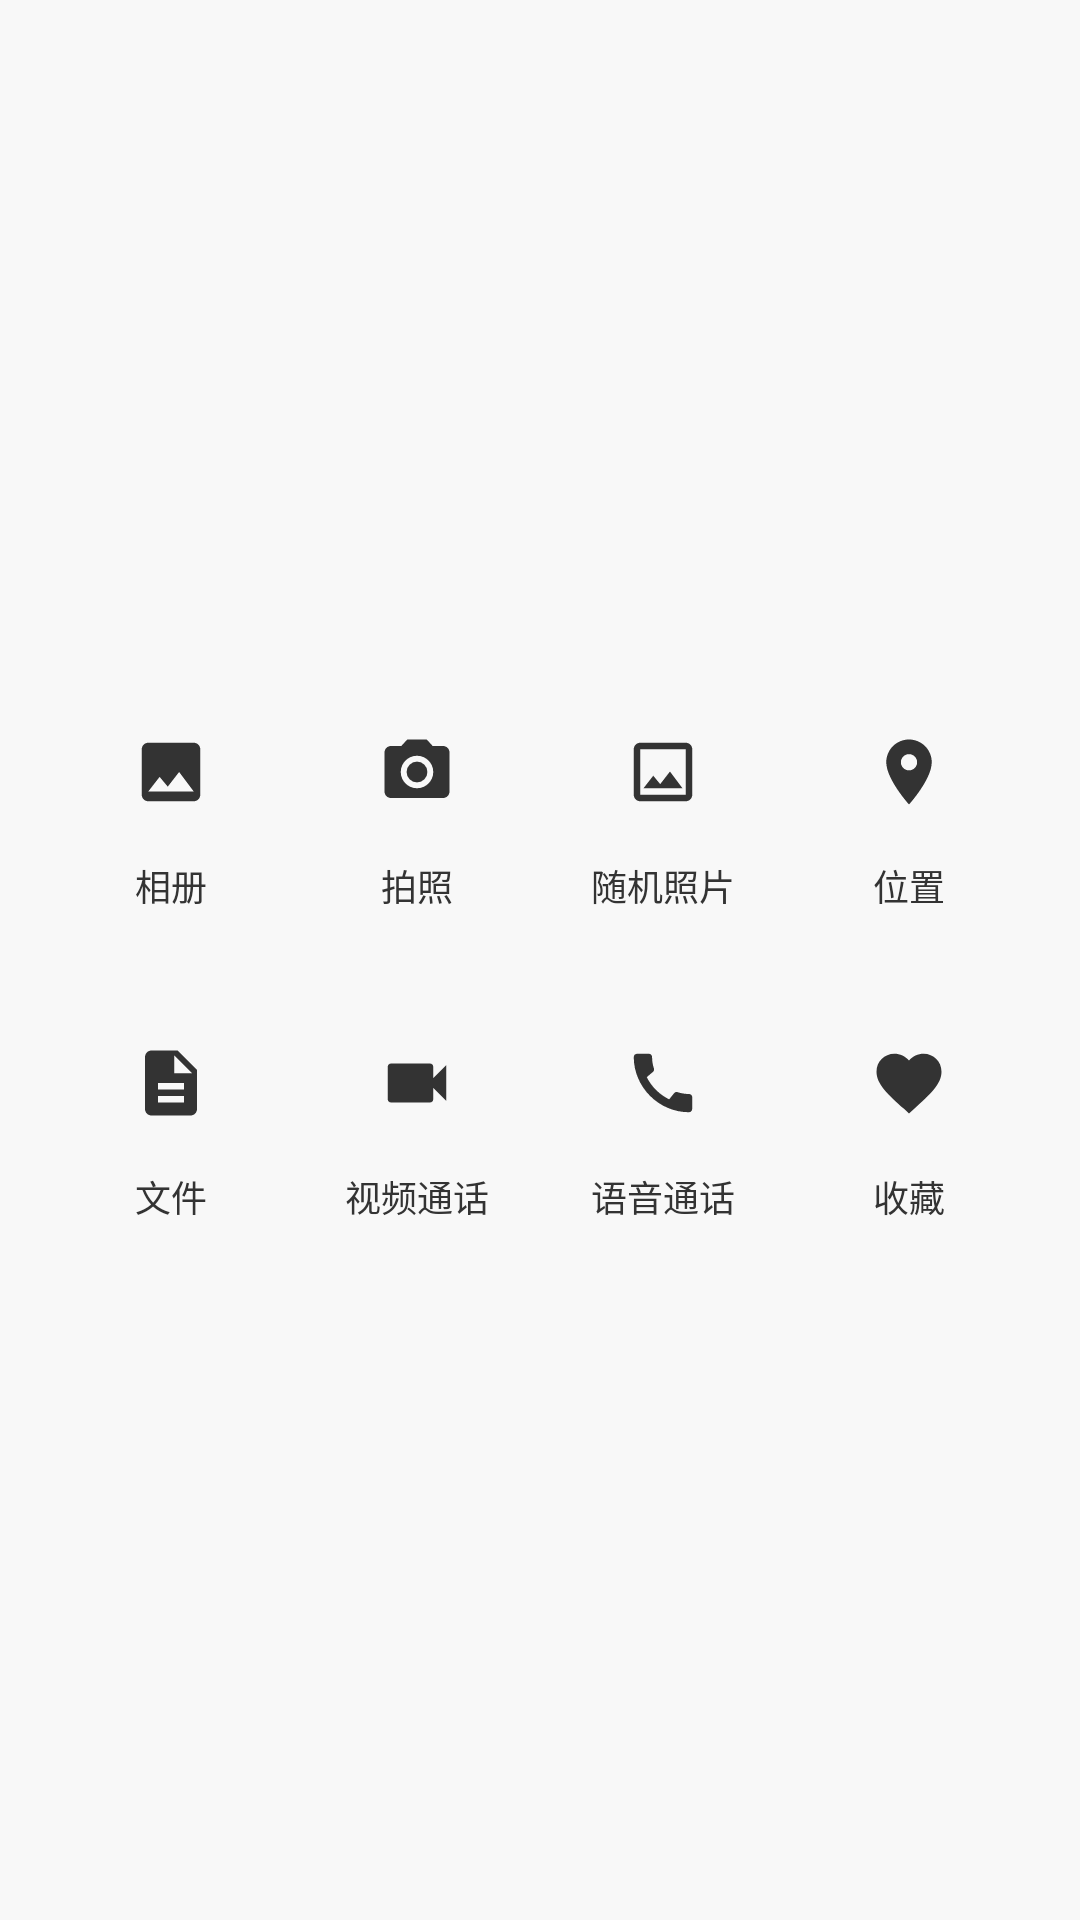

Screen size 1080px×1920px. Icon name, then its center in pixels as (x,y):
camera: (417,768)
favorite: (909,1083)
file: (171,1083)
location: (909,771)
photo: (171,772)
random photo: (663,772)
video call: (417,1083)
voice call: (663,1083)
